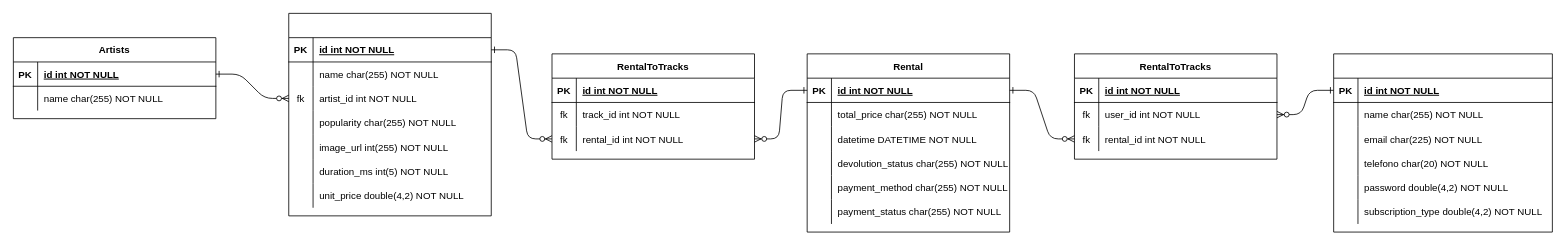
Image size: 1566x245. Some labels were removed from this diagram. Here are the shapes that lost their labels. From the top down, the box of each, then its label:
(288, 13, 491, 216): Tracks
(1333, 53, 1552, 232): Users
